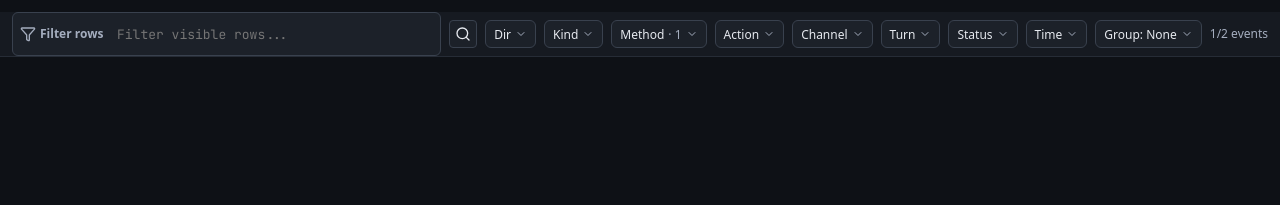
it: FilterBar › opens Method with discovered methods checked except ping by default
Click the button "Method · 1".
click(659, 34)  # box [611, 20, 707, 48]
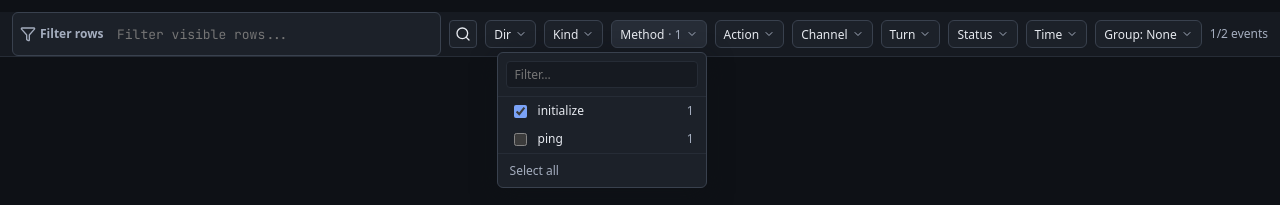
Result: the checkbox labelled "initialize 1" is checked at [514, 104, 527, 118]
Result: the checkbox labelled "ping 1" is not checked at [514, 132, 527, 146]
